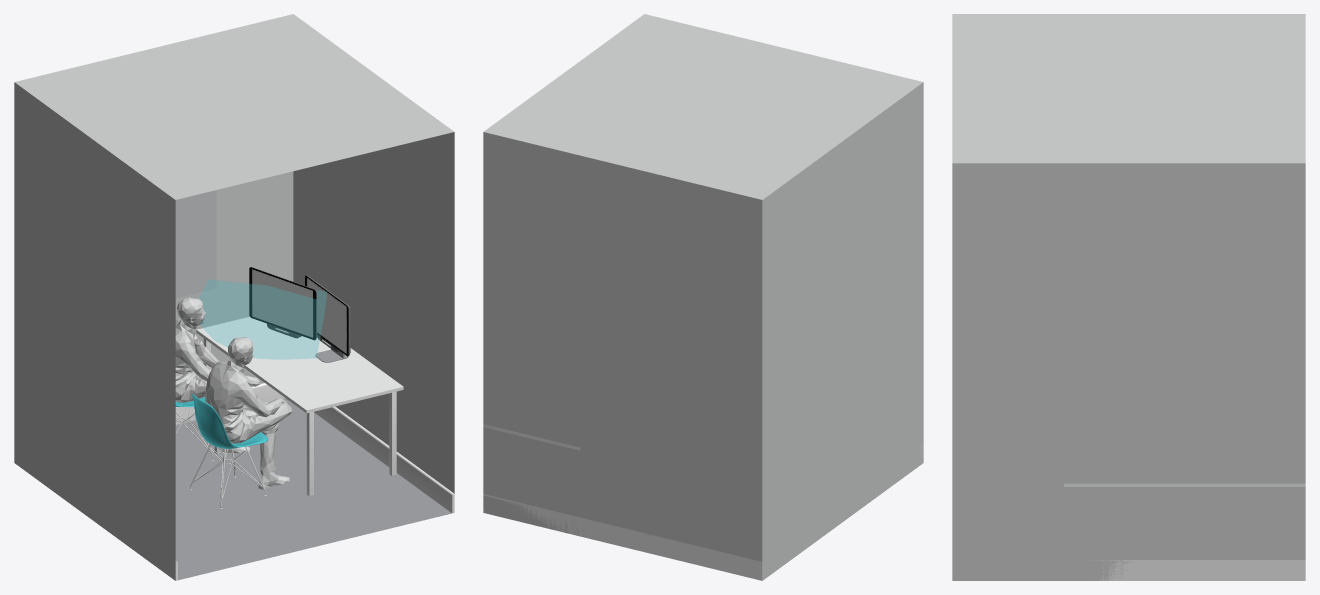
The model's file is PhoneBoothA_DisplaysAndExtras.gltf.
3 views of the same model, side by side, from view 1: azimuth 30°, elevation 25°; view 2: azimuth 150°, elevation 25°; view 3: azimuth 270°, elevation 25° (orthographic). The views are drawn at different scales.
Parts seen in each view (by area): view 1: 1mPlane03, ceiling, 1mPlane01, floor, onePersonDesk00, 1mPlane02, anno_displayAndExtras_phoneBooth_chromeBaseCam, lowpolyPeopleSittinglMan001, acousticPanel01, ScoutScreen001, lowpolyPeopleSittinglMan, skirtingBoard03 (+3 smaller); view 2: 1mPlane02, 1mPlane03, ceiling, skirtingBoard02; view 3: 1mPlane01, ceiling, skirtingBoard03, onePersonDesk00.
Part boxes in pixels (bbox=[...]): 1mPlane03: bbox=[14, 82, 175, 580]; ceiling: bbox=[14, 14, 453, 199]; 1mPlane01: bbox=[293, 132, 454, 493]; floor: bbox=[175, 398, 451, 580]; onePersonDesk00: bbox=[196, 316, 403, 496]; 1mPlane02: bbox=[175, 171, 293, 383]; anno_displayAndExtras_phoneBooth_chromeBaseCam: bbox=[199, 279, 326, 359]; lowpolyPeopleSittinglMan001: bbox=[205, 337, 292, 489]; acousticPanel01: bbox=[175, 190, 216, 298]; ScoutScreen001: bbox=[249, 267, 316, 340]; lowpolyPeopleSittinglMan: bbox=[175, 297, 260, 454]; skirtingBoard03: bbox=[314, 406, 454, 513]; 1mPlane02: bbox=[483, 132, 762, 561]; 1mPlane03: bbox=[762, 82, 923, 580]; ceiling: bbox=[484, 14, 923, 199]; skirtingBoard02: bbox=[483, 494, 762, 580]; 1mPlane01: bbox=[952, 163, 1305, 580]; ceiling: bbox=[952, 14, 1305, 163]; skirtingBoard03: bbox=[1088, 560, 1305, 580]; onePersonDesk00: bbox=[1064, 483, 1305, 486].
Size of the model in its own units: 230 by 301 by 230.
Materials: 13 (2 with a texture image).
